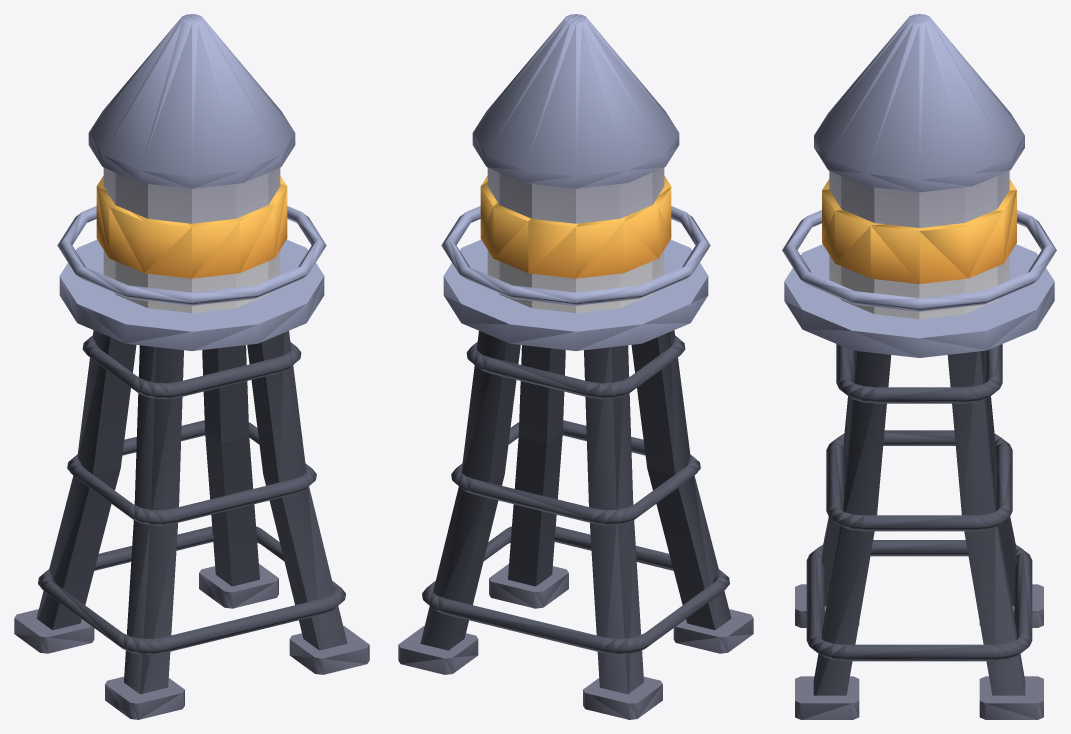
The model's file is water_tower.glb.
The picture shows the model from 3 angles, left to right: view 1: azimuth 30°, elevation 25°; view 2: azimuth 150°, elevation 25°; view 3: azimuth 270°, elevation 25°; orthographic projection. The views are drawn at different scales.
Visible parts, largest first — view 1: water-tower; view 2: water-tower; view 3: water-tower.
Boxes of the visible parts, x1,y1,x2,y2 form: water-tower: [14, 14, 369, 719]; water-tower: [398, 14, 753, 719]; water-tower: [782, 14, 1056, 719].
Bounding box in the file's own units: 3.98 × 10 × 3.88.
Materials: 1 (1 with a texture image).
